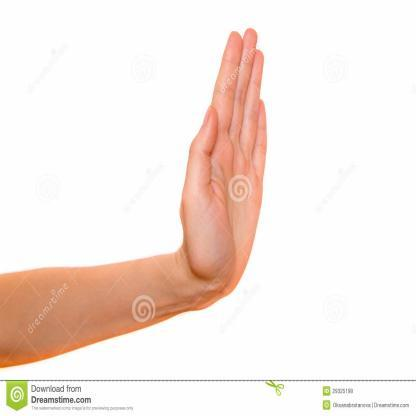stop: (176, 27, 276, 289)
